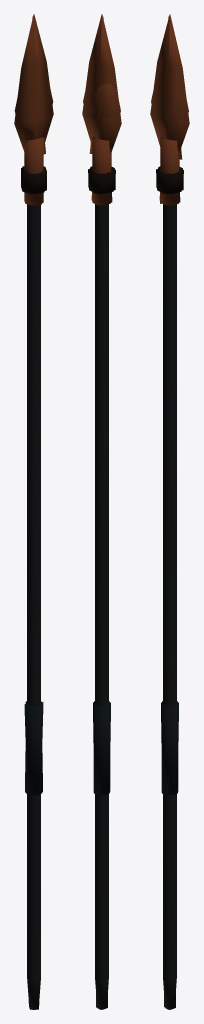
The picture shows the model from 3 angles, left to right: view 1: azimuth 30°, elevation 25°; view 2: azimuth 150°, elevation 25°; view 3: azimuth 330°, elevation 25°; orthographic projection.
Visible parts, largest first — view 1: body_lod1, body_lod2, body_lod3; view 2: body_lod1, body_lod2, body_lod3; view 3: body_lod1, body_lod2, body_lod3.
Part boxes in pixels (<box>): body_lod1: <box>14,14,53,1009</box>; body_lod2: <box>14,16,53,1008</box>; body_lod3: <box>22,16,45,1009</box>; body_lod1: <box>82,14,121,1009</box>; body_lod2: <box>83,84,120,1009</box>; body_lod3: <box>88,16,115,1009</box>; body_lod1: <box>150,14,189,1009</box>; body_lod2: <box>151,16,188,1009</box>; body_lod3: <box>156,16,183,1009</box>.
Size of the model in its own units: 13 by 313 by 7.6.
